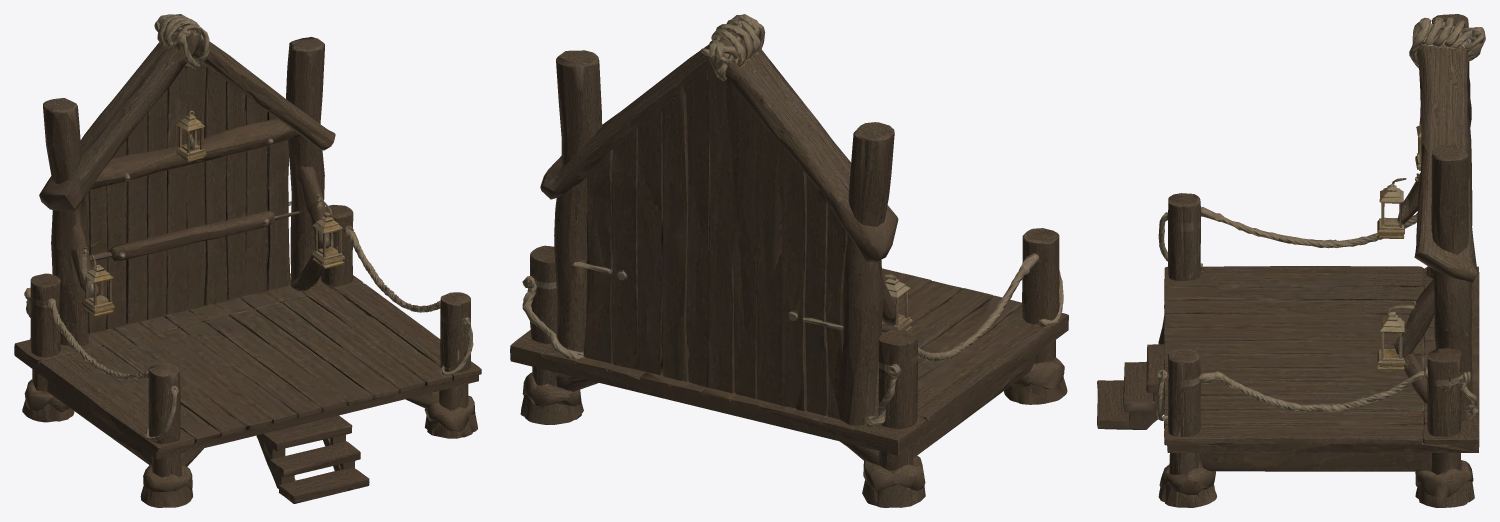
The model's file is range.glb.
3 views of the same model, side by side, from view 1: azimuth 30°, elevation 25°; view 2: azimuth 150°, elevation 25°; view 3: azimuth 270°, elevation 25° (orthographic). The views are drawn at different scales.
Size of the model in its own units: 1.82 by 1.9 by 1.69.
Materials: 1 (1 with a texture image).
